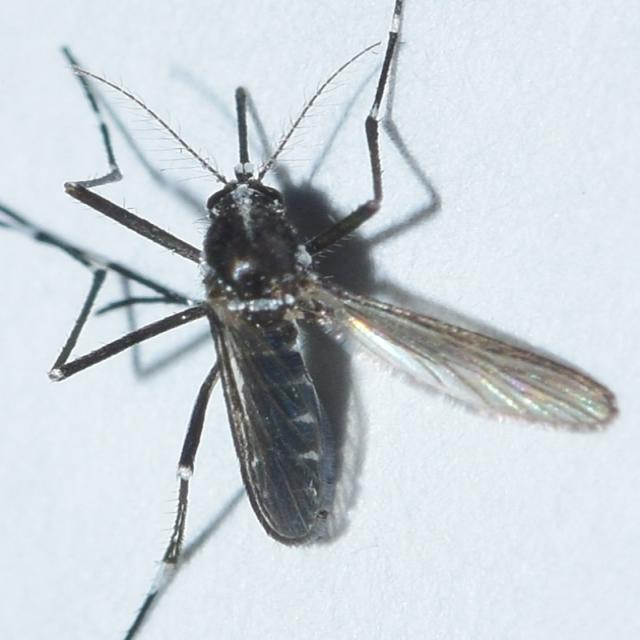albopictus: (9, 14, 531, 596)
